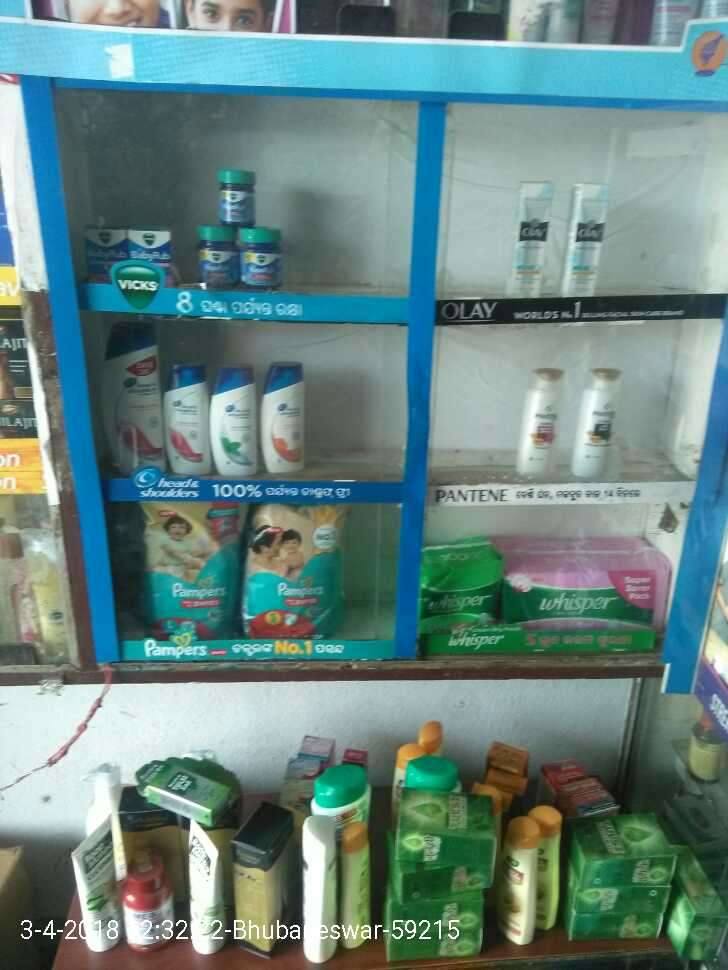vicks: (240, 224, 288, 287), (194, 225, 240, 287), (86, 223, 129, 282), (215, 164, 256, 225), (129, 223, 168, 283)
